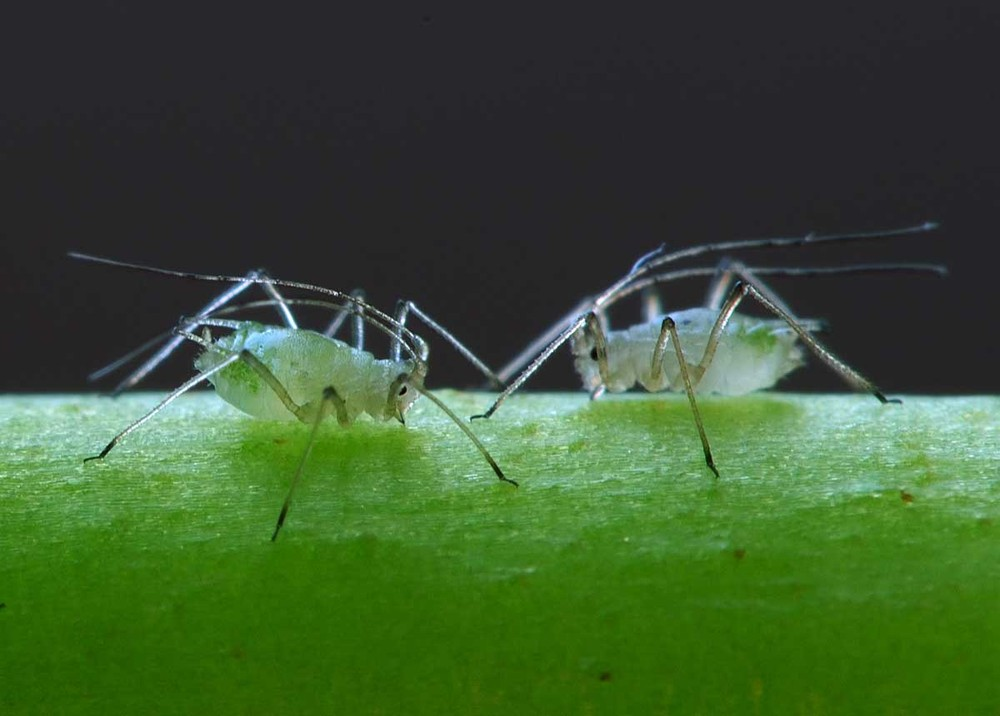Pulgon: (105, 250, 513, 509), (520, 231, 920, 484)
